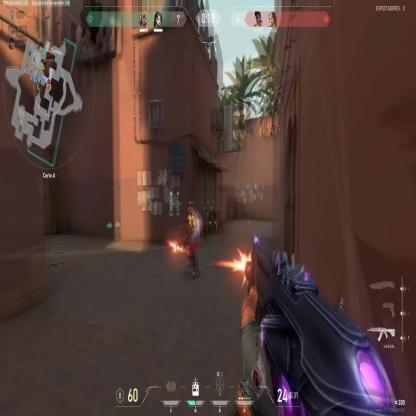enemy: (183, 200, 204, 277)
enemy_head: (188, 201, 194, 216)
